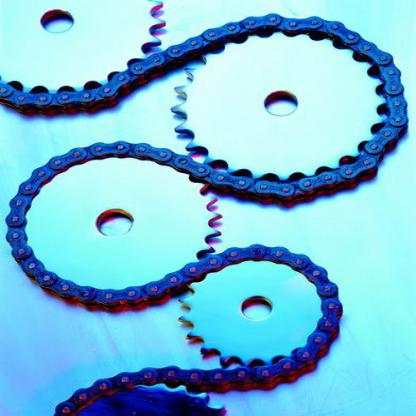FOD: (170, 31, 384, 184)
